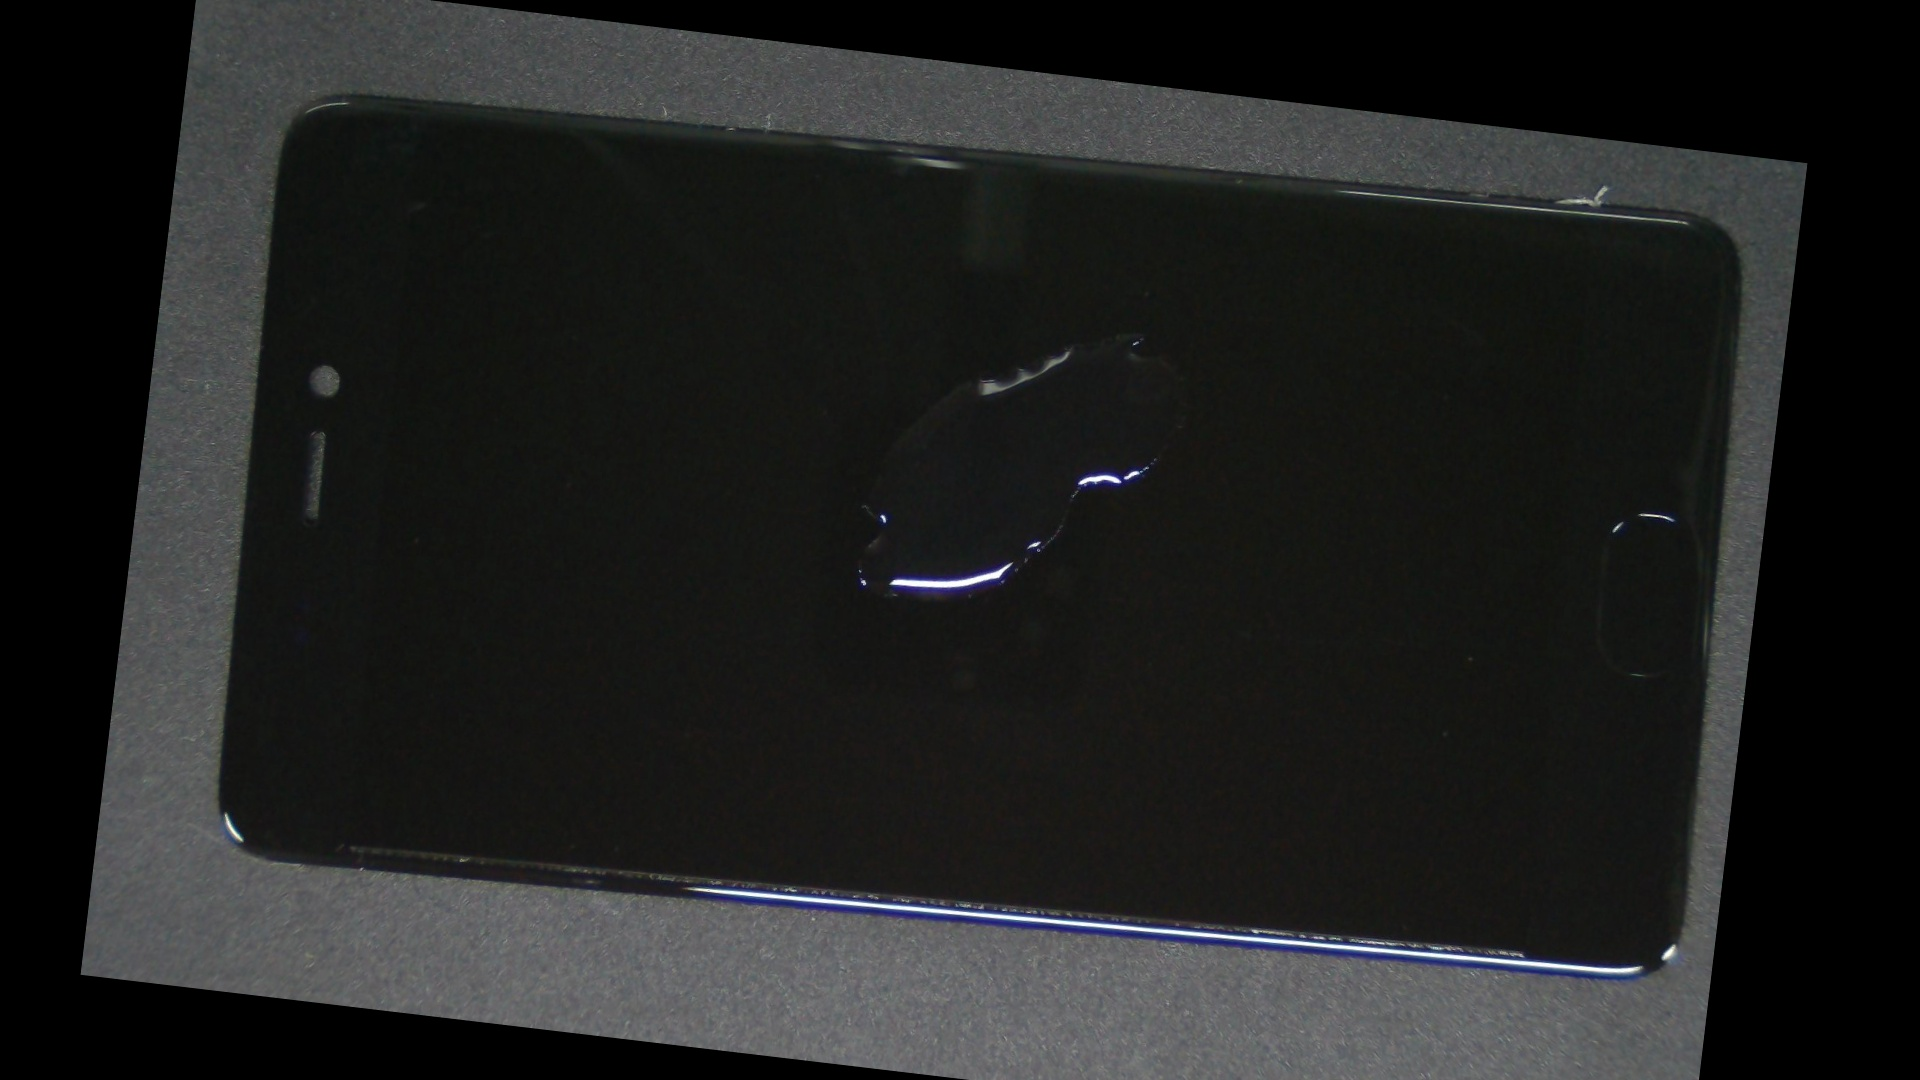oil: (638, 153, 1633, 514)
